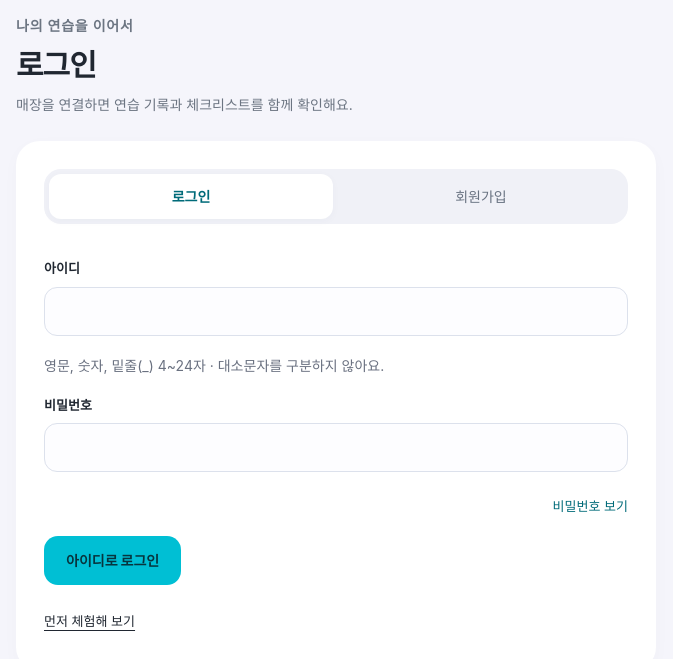
it: requires matching signup passwords before creating the account
Click the button "회원가입". click: (481, 197)
box: top-left (339, 174), bottom-right (623, 219)
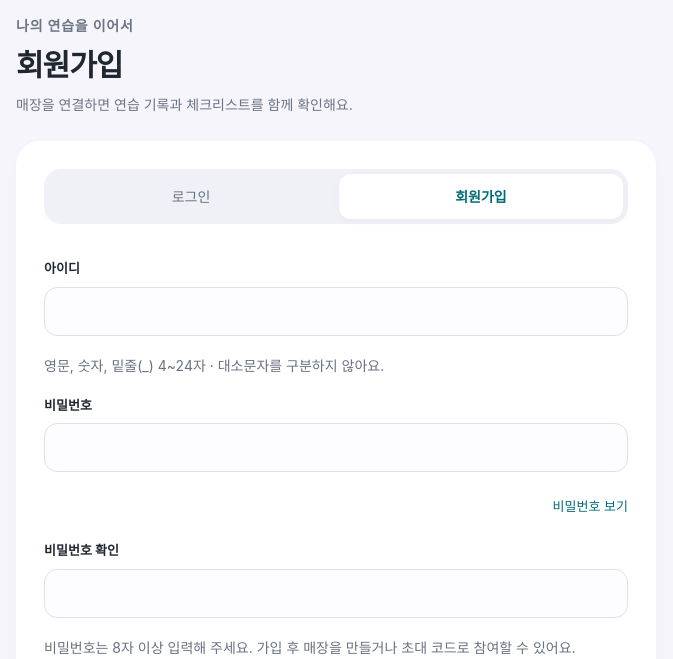
Type "My_ID" into the field labelled "아이디". click: (336, 311)
box: top-left (44, 287), bottom-right (628, 336)
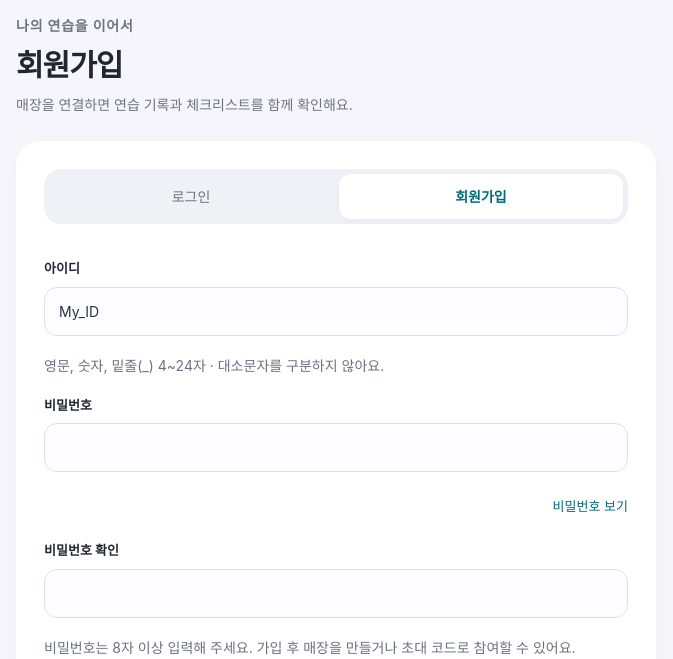
Type "test-password-123" into the password field labelled "비밀번호". click: (336, 448)
box: top-left (44, 423), bottom-right (628, 472)
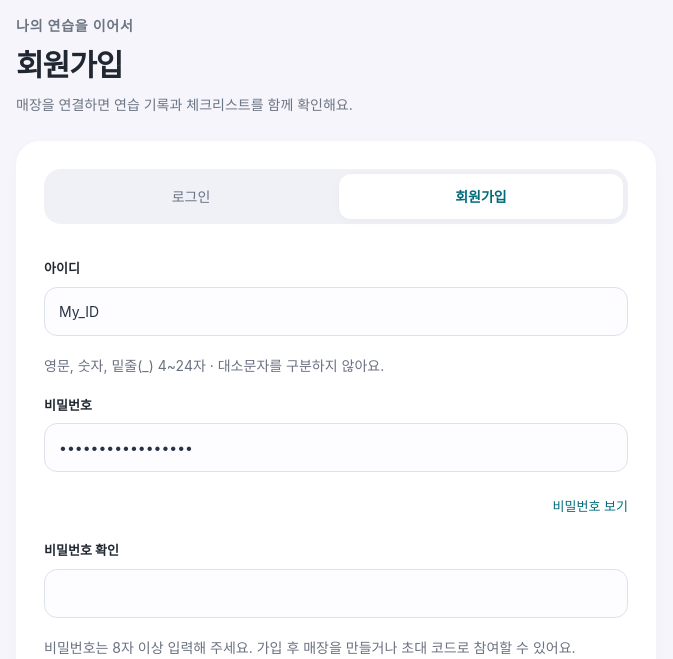
Type "test-password-123" into the password field labelled "비밀번호 확인". click: (336, 593)
box: top-left (44, 569), bottom-right (628, 618)
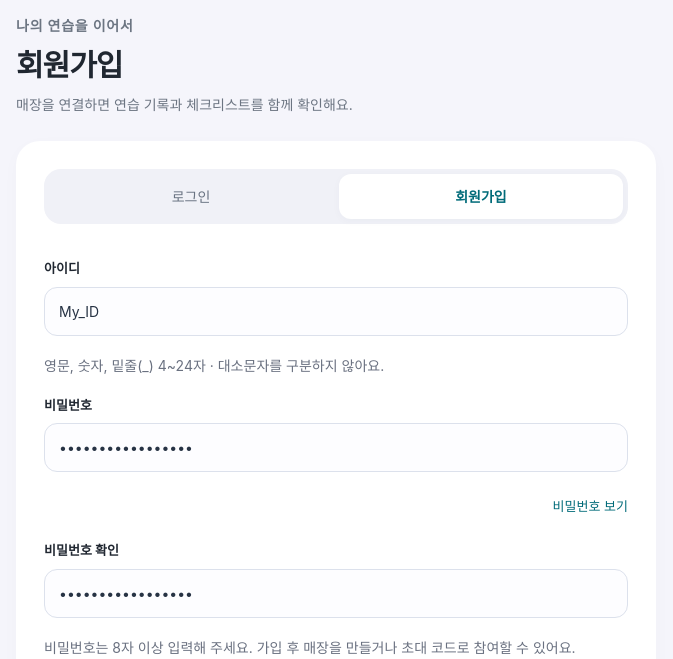
Type "different-password" into the password field labelled "비밀번호 확인". click: (336, 593)
box: top-left (44, 569), bottom-right (628, 618)
(page scrolled)
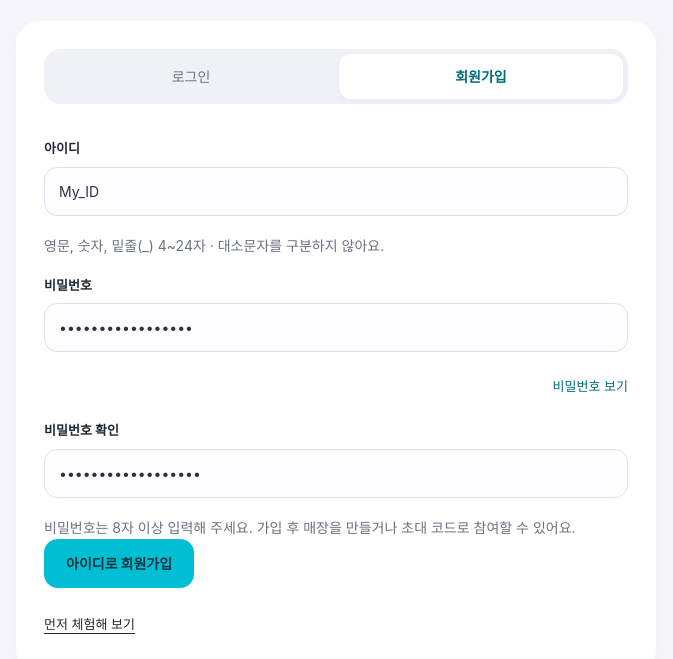
Submit the form labelled "아이디"
(page scrolled)
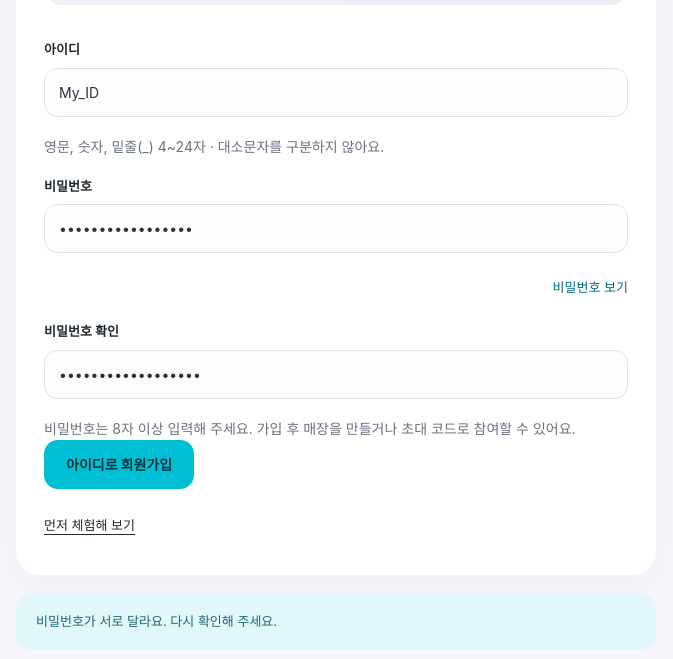
Now the text "비밀번호가 서로 달라요. 다시 확인해 주세요." is shown, box top-left (16, 592), bottom-right (656, 650)
